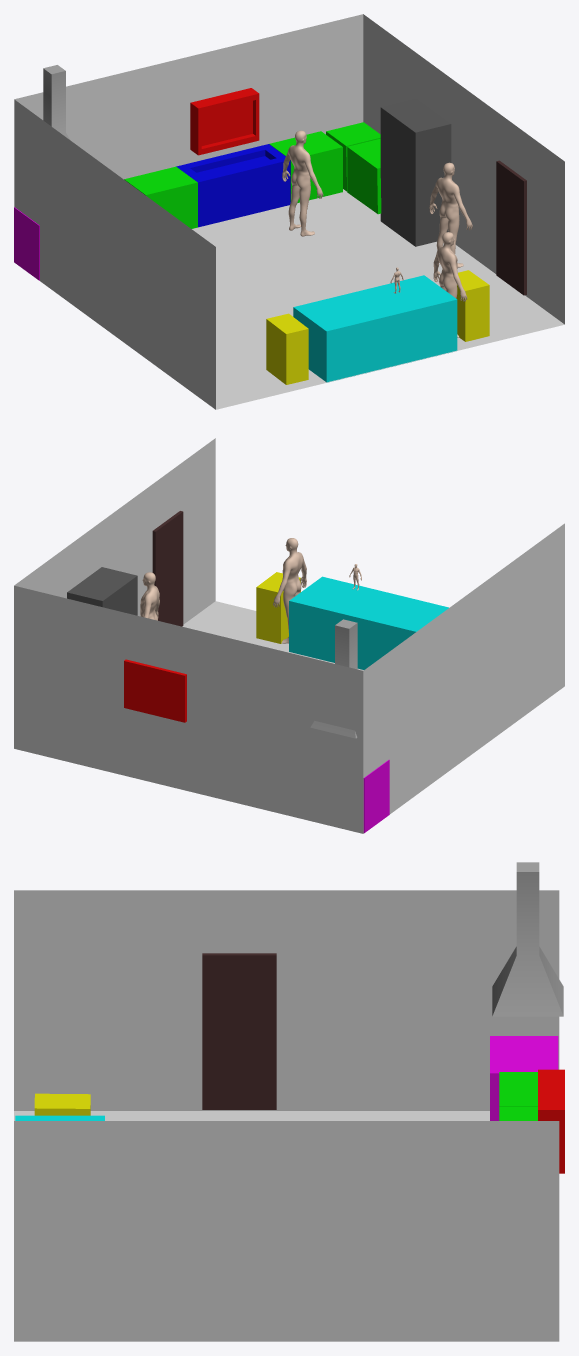
File: Blockout kök.fbx
The picture shows the model from 3 angles, top to bottom: view 1: azimuth 30°, elevation 25°; view 2: azimuth 150°, elevation 25°; view 3: azimuth 270°, elevation 25°; orthographic projection. The views are drawn at different scales.
Parts seen in each view (by area): view 1: pPlane2, pPlane1, pCube5, pCube6, pCube7, pCube1, pCube16, pCube9, pCube17, pCube18, pCube19, humanBody2 (+6 smaller); view 2: pPlane2, pCube5, pCube1, pCube16, pPlane1, pCube6, pCube10, pCube3, pCube4, humanBody1, HumanBody:humanBody; view 3: pPlane2, pCube11, pCube4, pPlane1, pCube3, pCube1, pCube15, pCube9.
Boxes of the visible parts, box(x1,y1,x2,y2) form: pPlane2: box(14, 14, 564, 409); pPlane1: box(192, 189, 564, 409); pCube5: box(293, 275, 457, 382); pCube6: box(380, 98, 451, 246); pCube7: box(176, 144, 290, 227); pCube1: box(190, 88, 259, 155); pCube16: box(496, 160, 526, 295); pCube9: box(266, 313, 308, 384); pCube17: box(124, 166, 197, 228); pCube18: box(269, 131, 342, 202); pCube19: box(347, 138, 381, 214); humanBody2: box(282, 130, 323, 236); pPlane2: box(14, 438, 564, 833); pCube5: box(289, 576, 448, 669); pCube1: box(124, 659, 186, 722); pCube16: box(152, 511, 183, 626); pPlane1: box(182, 601, 363, 670); pCube6: box(67, 567, 137, 615); pCube10: box(256, 572, 300, 643); pCube3: box(363, 759, 389, 833); pCube4: box(310, 619, 357, 738); humanBody1: box(273, 538, 306, 643); HumanBody:humanBody: box(140, 572, 159, 620); pPlane2: box(14, 890, 559, 1341); pCube11: box(202, 953, 276, 1109); pCube4: box(492, 862, 563, 1016); pPlane1: box(14, 1111, 489, 1120); pCube3: box(490, 1036, 558, 1120); pCube1: box(538, 1069, 564, 1173); pCube15: box(499, 1072, 537, 1106); pCube9: box(34, 1093, 90, 1115).
Size of the model in its own units: 21.04 by 11.2 by 21.21.
